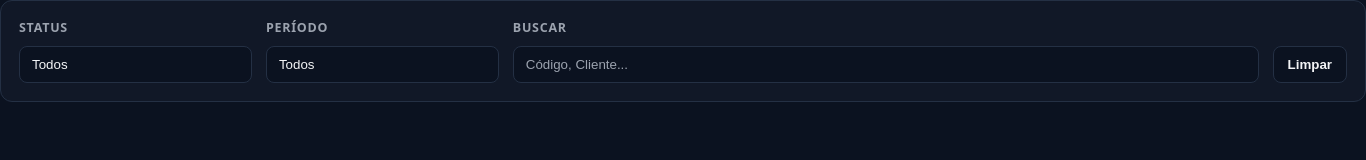
Scenario: DashboardFilters › Interações › Deve limpar os filtros ao clicar no botão Limpar
Select "Pendente" in the dropdown labelled "Status" at (135, 64), box [19,46,252,83]
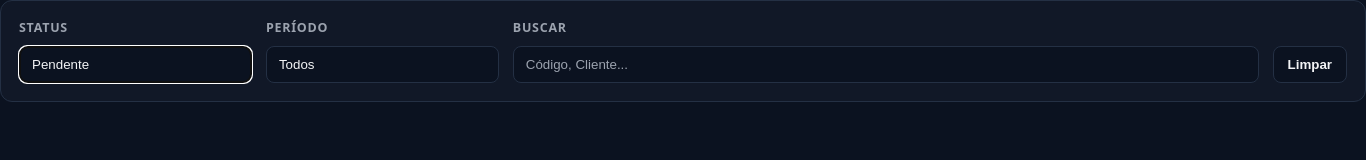
Select "Últimos 90 dias" in the dropdown labelled "Período" at (382, 64), box [266,46,499,83]
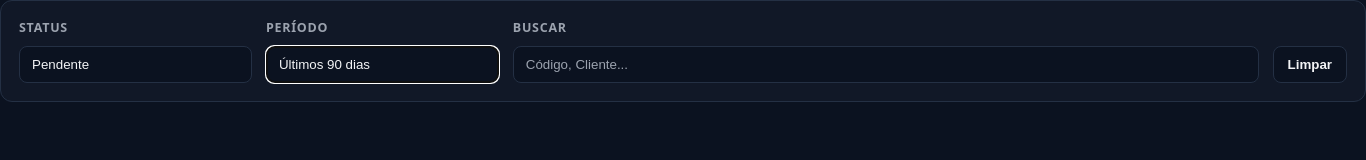
Type "1234567" into the search field labelled "Buscar".
click(886, 64); type("1234567")  # box [513,46,1259,83]
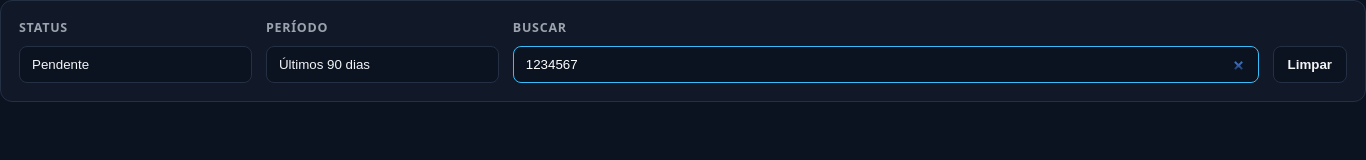
Click the button "Limpar".
click(1310, 64)  # box [1273,46,1347,83]
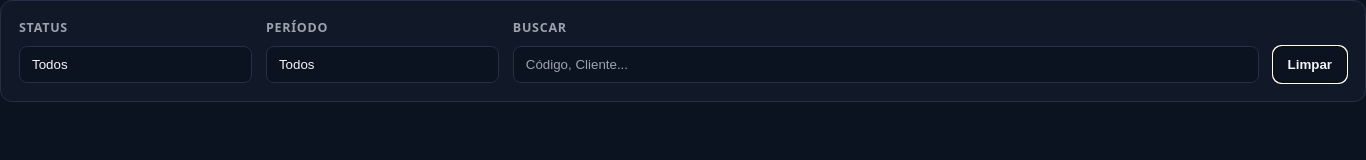
Check: the search field labelled "Buscar" is empty, box [513,46,1259,83]
